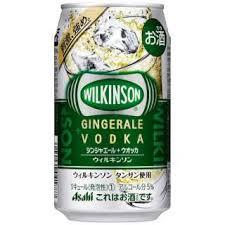beer: (52, 2, 175, 223)
